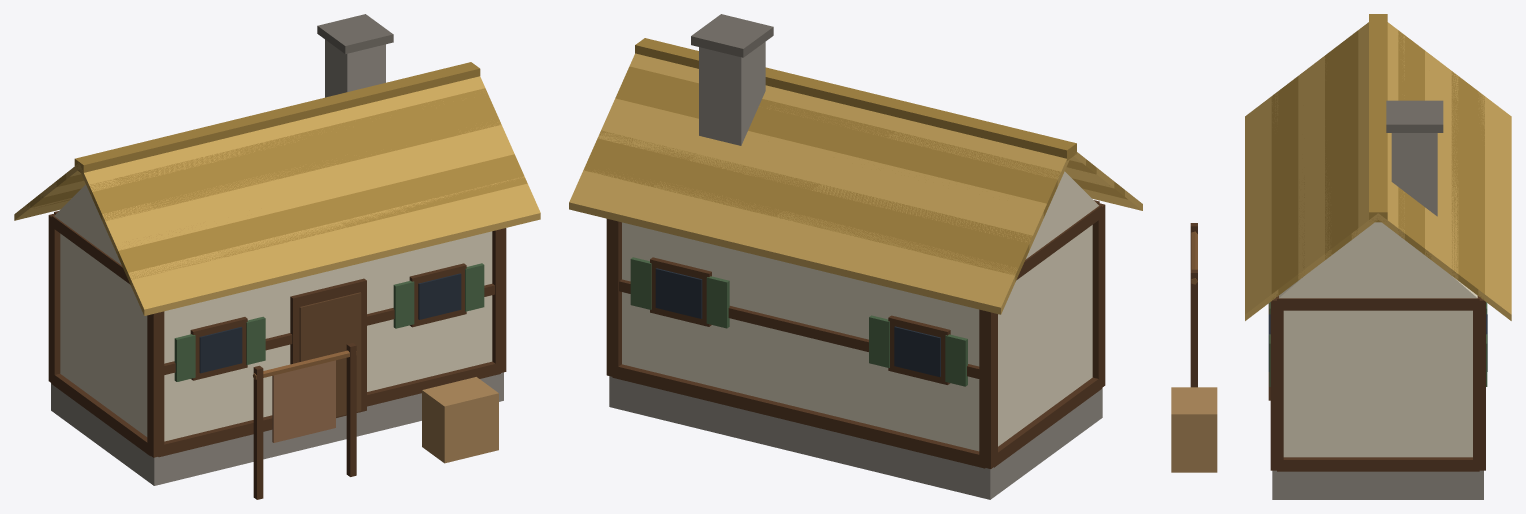
Rendered from hunter.glb.
The picture shows the model from 3 angles, left to right: view 1: azimuth 30°, elevation 25°; view 2: azimuth 150°, elevation 25°; view 3: azimuth 270°, elevation 25°; orthographic projection. The views are drawn at different scales.
Visible parts, largest first — view 1: hunter; view 2: hunter; view 3: hunter.
Boxes of the visible parts, x1,y1,x2,y2 form: hunter: (14,14,540,499); hunter: (569,14,1142,499); hunter: (1171,14,1511,499).
Bounding box in the file's own units: 5.1 × 4.17 × 3.7.
